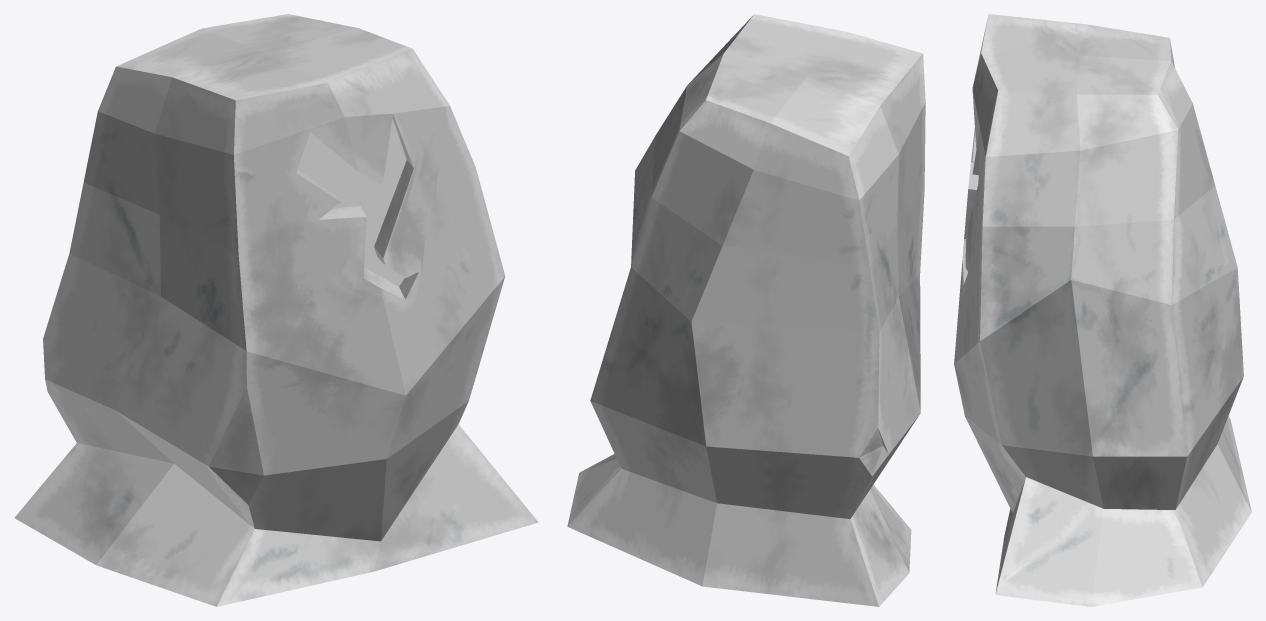
The model's file is Runestone.fbx.
3 views of the same model, side by side, from view 1: azimuth 30°, elevation 25°; view 2: azimuth 150°, elevation 25°; view 3: azimuth 270°, elevation 25° (orthographic). The views are drawn at different scales.
Parts seen in each view (by area): view 1: Runestone, Rune; view 2: Runestone; view 3: Runestone.
Boxes of the visible parts, <box> form: Runestone: <box>14,14,538,606</box>; Rune: <box>298,119,406,286</box>; Runestone: <box>567,14,925,606</box>; Runestone: <box>954,14,1251,606</box>.
Bounding box in the file's own units: 371 × 449 × 260.
Materials: 2 (1 with a texture image).
